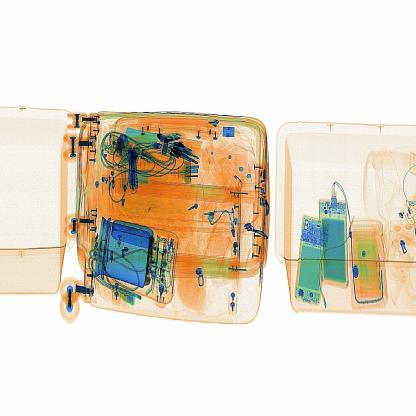scissors: (122, 143, 152, 199)
